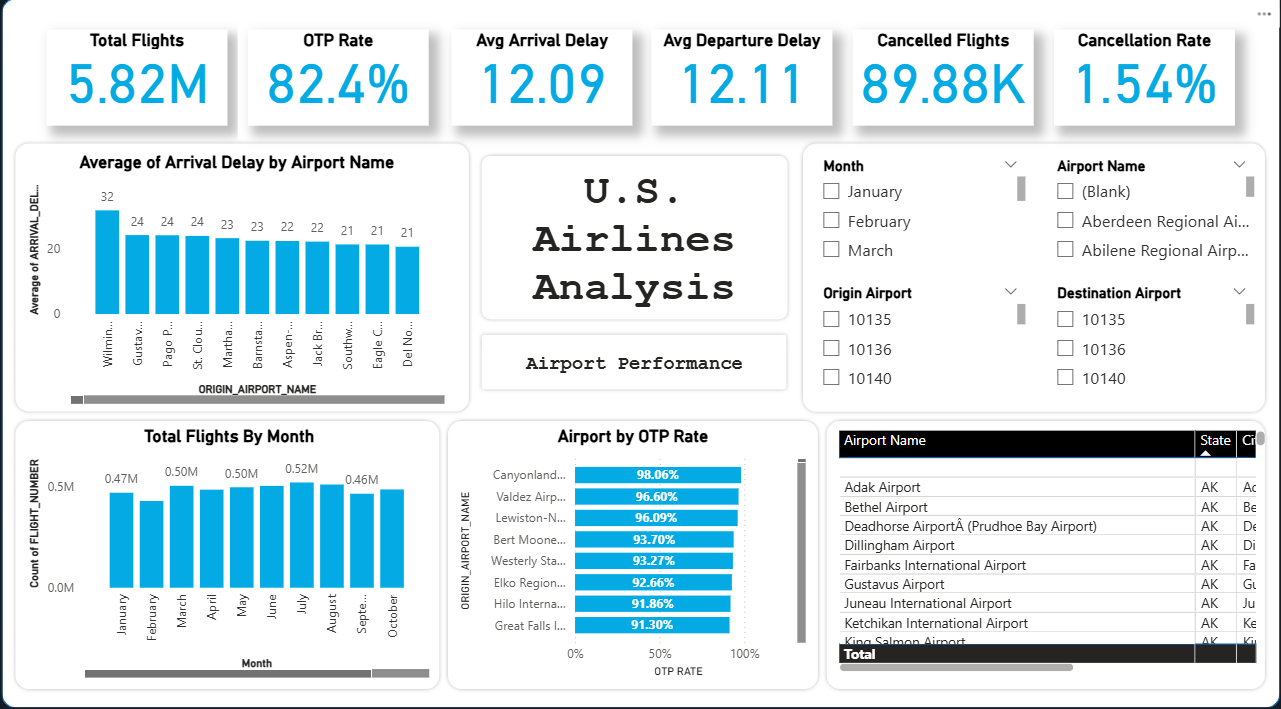

Layout of this report page (visuals, bound fields, positions):
{"tool":"powerbi","page":{"name":"Airport Performance","canvas":[1280,720],"ordinal":2},"visuals":[{"type":"shape","box":[12.3,11,1255.2,696.9],"z":0},{"type":"shape","box":[818,422,438,271],"z":1000},{"type":"shape","box":[22,422,424,271],"z":2000},{"type":"shape","box":[47,28,197.5,121.5],"z":3000},{"type":"card","title":"Total Flights","fields":{"Values":["CountNonNull(project flights.FLIGHT_NUMBER)"]},"box":[56.4,41.7,177.9,94.5],"z":4000},{"type":"shape","box":[442.9,29.4,197.5,121.5],"z":5000},{"type":"shape","box":[640.5,29.4,197.5,121.5],"z":6000},{"type":"shape","box":[1035.6,29.4,197.5,121.5],"z":7000},{"type":"shape","box":[838,29.4,197.5,121.5],"z":8000},{"type":"shape","box":[479.8,162,308,168.1],"z":9000},{"type":"shape","box":[22,150,453,271],"z":10000},{"type":"shape","box":[795.1,149.7,461.4,271.2],"z":11000},{"type":"shape","box":[244.2,28.2,197.5,121.5],"z":12000},{"type":"shape","box":[447,422,371,271],"z":13000},{"type":"card","title":"OTP Rate","fields":{"Values":["project flights.OTP RATE"]},"box":[254,41.7,177.9,94.5],"z":14000},{"type":"card","title":"Avg Arrival Delay","fields":{"Values":["Avg(project flights.ARRIVAL_DELAY)"]},"box":[454,41.7,177.9,94.5],"z":15000},{"type":"card","title":"Avg Departure Delay","fields":{"Values":["Avg(project flights.DEPARTURE_DELAY)"]},"box":[650.3,41.7,177.9,94.5],"z":16000},{"type":"card","title":"Cancelled Flights","fields":{"Values":["CountNonNull(project flights.CANCELLED)"]},"box":[847.9,41.7,177.9,94.5],"z":17000},{"type":"card","title":"Cancellation Rate","fields":{"Values":["project flights.CANCELLATION RATE"]},"box":[1045.4,41.7,177.9,94.5],"z":18000},{"type":"clusteredBarChart","title":"Airport by OTP Rate","fields":{"Category":["project flights_analysis.ORIGIN_AIRPORT_NAME"],"Y":["project flights.OTP RATE"]},"box":[458,431,349,252],"z":19000},{"type":"clusteredColumnChart","title":"Total Flights By Month","fields":{"Category":["project flights_analysis.FLIGHT_DATE.Variation.Date Hierarchy.Month"],"Y":["CountNonNull(project flights_analysis.FLIGHT_NUMBER)"]},"box":[34,431,403,252],"z":20000},{"type":"clusteredColumnChart","title":"Average of Arrival Delay by Airport Name","fields":{"Category":["project flights_analysis.ORIGIN_AIRPORT_NAME"],"Y":["Avg(project flights_analysis.ARRIVAL_DELAY)"]},"box":[34,162,418,252],"z":21000},{"type":"tableEx","title":"Cancellation Rate by Airports","fields":{"Values":["project flights_analysis.ORIGIN_AIRPORT_NAME","project flights_analysis.ORIGIN_STATE","project flights_analysis.ORIGIN_CITY","CountNonNull(project flights_analysis.CANCELLED)"]},"box":[828,431,429.5,246.6],"z":22000},{"type":"shape","title":"Fly Emirates Flight Performance Overview","box":[479.8,337.4,306.8,61.4],"z":23000},{"type":"slicer","fields":{"Values":["project flights_analysis.FLIGHT_DATE.Variation.Date Hierarchy.Month"]},"box":[806.1,162,216,120.2],"z":24000},{"type":"slicer","fields":{"Values":["project flights_analysis.ORIGIN_AIRPORT_NAME"]},"box":[1035.6,162,211,120.2],"z":25000},{"type":"slicer","fields":{"Values":["project flights_analysis.ORIGIN_AIRPORT"]},"box":[806.1,287.1,216,120.2],"z":26000},{"type":"slicer","fields":{"Values":["project flights_analysis.DESTINATION_AIRPORT"]},"box":[1035.6,287.1,211,120.2],"z":27000},{"type":"card","title":"Airport Performance","fields":{"Values":["project flights_analysis.Cancelled Flights"]},"box":[483.4,359.5,300.6,23.3],"z":28000},{"type":"card","title":"U.S. Airlines Analysis","fields":{"Values":["project flights_analysis.Cancelled Flights"]},"box":[483.4,177.9,300.6,152.1],"z":29000}]}

Visuals, with their boxes in screenshot pixels (x1, y1, x2, y2), scaled from the page's 1280x720 canvas onto the 1281x709 screenshot:
shape: detection(12, 11, 1268, 697)
shape: detection(819, 416, 1257, 682)
shape: detection(22, 416, 446, 682)
shape: detection(47, 28, 245, 147)
"Total Flights" card: detection(56, 41, 234, 134)
shape: detection(443, 29, 641, 149)
shape: detection(641, 29, 839, 149)
shape: detection(1036, 29, 1234, 149)
shape: detection(839, 29, 1036, 149)
shape: detection(480, 160, 788, 325)
shape: detection(22, 148, 475, 415)
shape: detection(796, 147, 1257, 414)
shape: detection(244, 28, 442, 147)
shape: detection(447, 416, 819, 682)
"OTP Rate" card: detection(254, 41, 432, 134)
"Avg Arrival Delay" card: detection(454, 41, 632, 134)
"Avg Departure Delay" card: detection(651, 41, 829, 134)
"Cancelled Flights" card: detection(849, 41, 1027, 134)
"Cancellation Rate" card: detection(1046, 41, 1224, 134)
"Airport by OTP Rate" clusteredBarChart: detection(458, 424, 808, 673)
"Total Flights By Month" clusteredColumnChart: detection(34, 424, 437, 673)
"Average of Arrival Delay by Airport Name" clusteredColumnChart: detection(34, 160, 452, 408)
"Cancellation Rate by Airports" tableEx: detection(829, 424, 1258, 667)
"Fly Emirates Flight Performance Overview" shape: detection(480, 332, 787, 393)
slicer - project flights_analysis.FLIGHT_DATE.Variation.Date Hierarchy.Month: detection(807, 160, 1023, 278)
slicer - project flights_analysis.ORIGIN_AIRPORT_NAME: detection(1036, 160, 1248, 278)
slicer - project flights_analysis.ORIGIN_AIRPORT: detection(807, 283, 1023, 401)
slicer - project flights_analysis.DESTINATION_AIRPORT: detection(1036, 283, 1248, 401)
"Airport Performance" card: detection(484, 354, 785, 377)
"U.S. Airlines Analysis" card: detection(484, 175, 785, 325)
